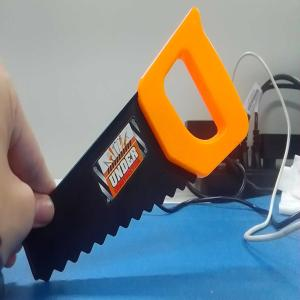serrote: (38, 5, 253, 282)
